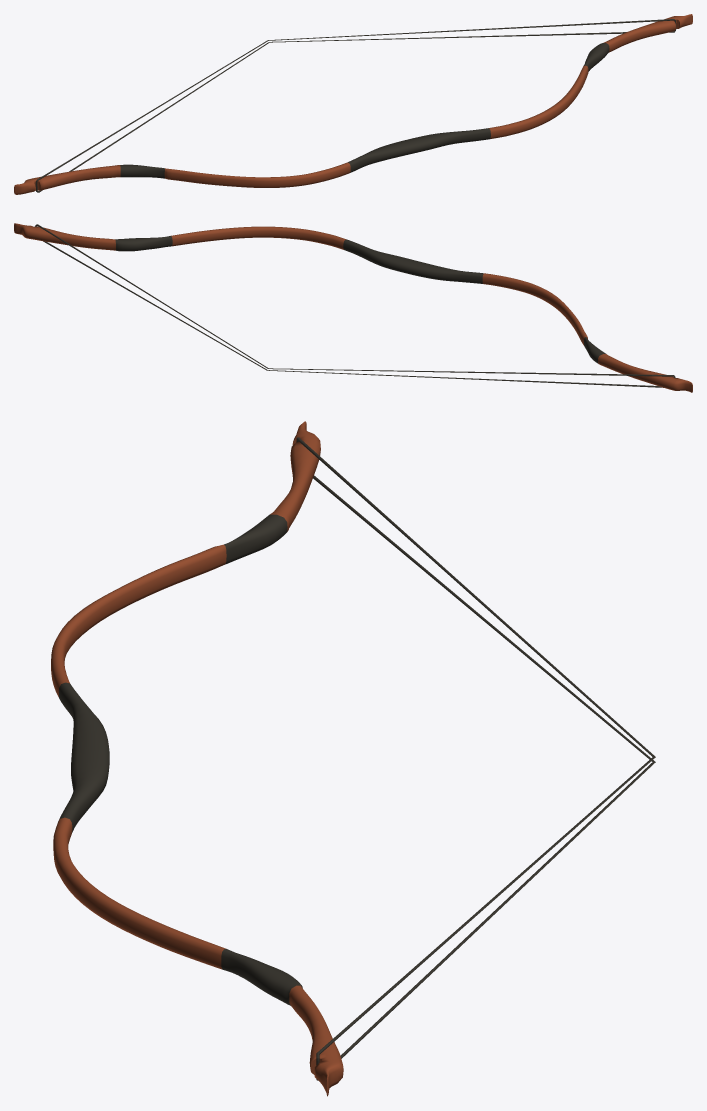
3 renders of one model, top to bottom at view 1: azimuth 30°, elevation 25°; view 2: azimuth 150°, elevation 25°; view 3: azimuth 270°, elevation 25°, orthographic. The views are drawn at different scales.
Visible parts, largest first — view 1: 96.3, 96.thirdstep; view 2: 96.3, 96.thirdstep; view 3: 96.3, 96.thirdstep.
Boxes of the visible parts, <box> form: 96.3: <box>14,14,692,194</box>; 96.thirdstep: <box>35,19,676,192</box>; 96.3: <box>14,223,692,392</box>; 96.thirdstep: <box>35,224,675,387</box>; 96.3: <box>51,421,343,1096</box>; 96.thirdstep: <box>296,437,655,1080</box>.
Bounding box in the file's own units: 76.03 × 1.48 × 29.56.
